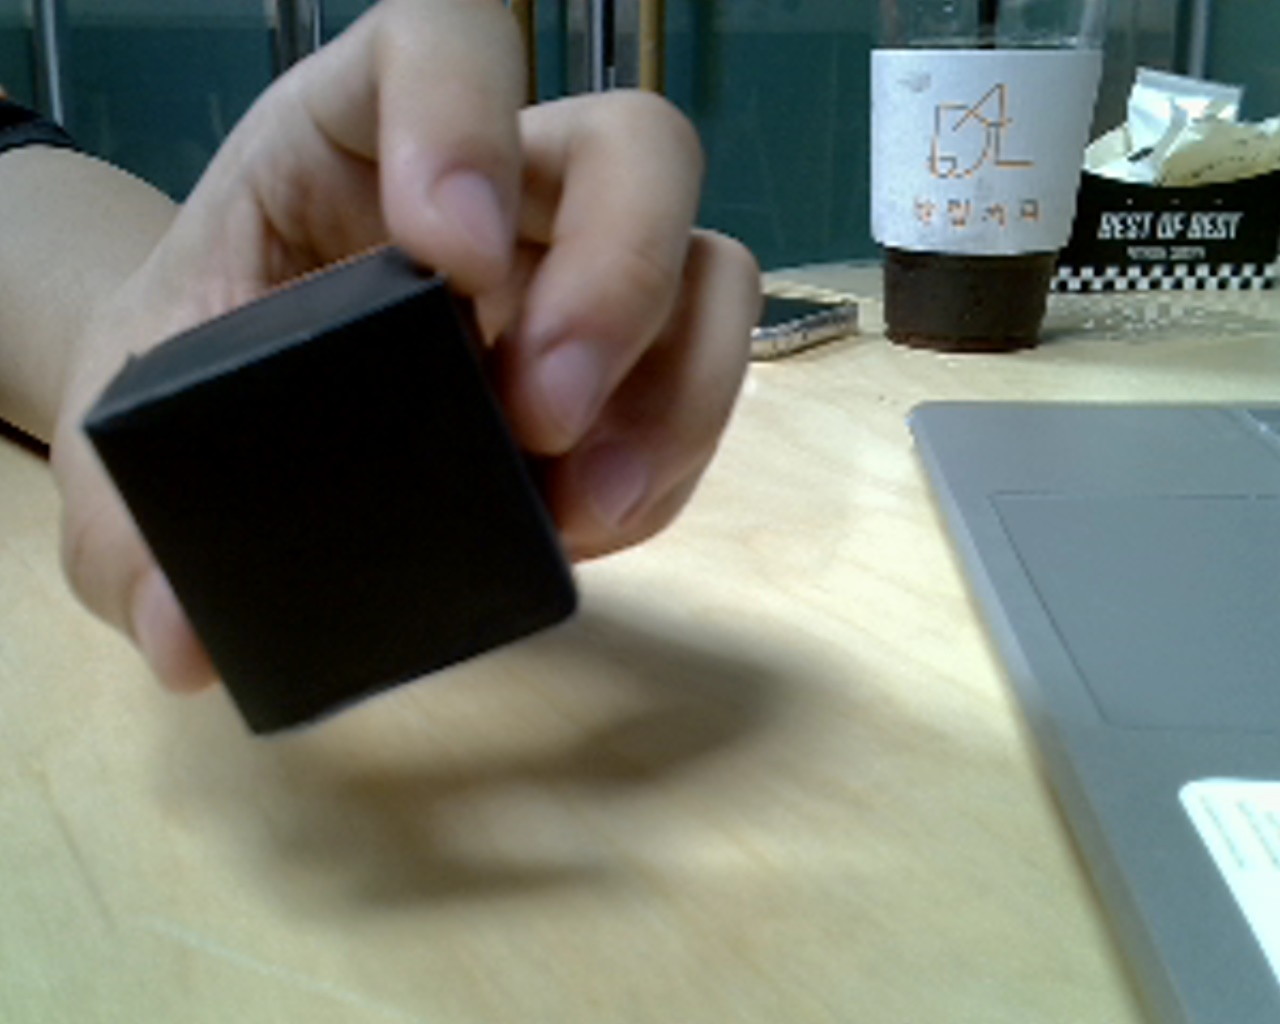blackbox: (56, 204, 643, 746)
